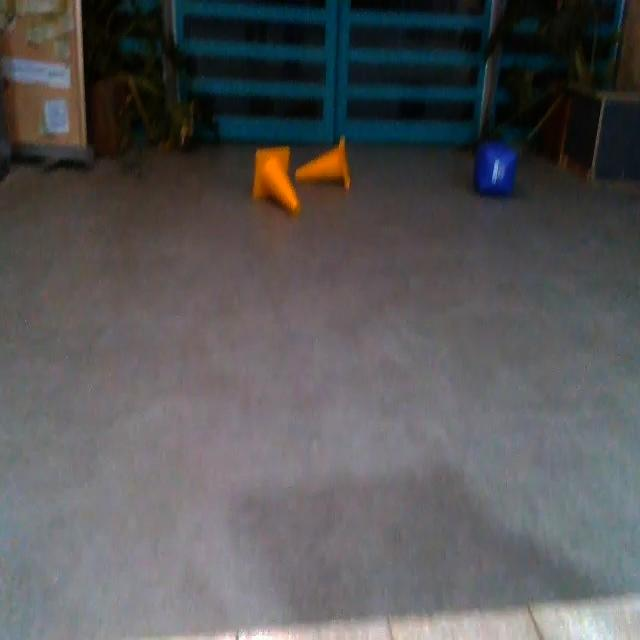cone: (252, 143, 302, 214), (292, 138, 353, 191)
cube: (472, 142, 519, 198)
